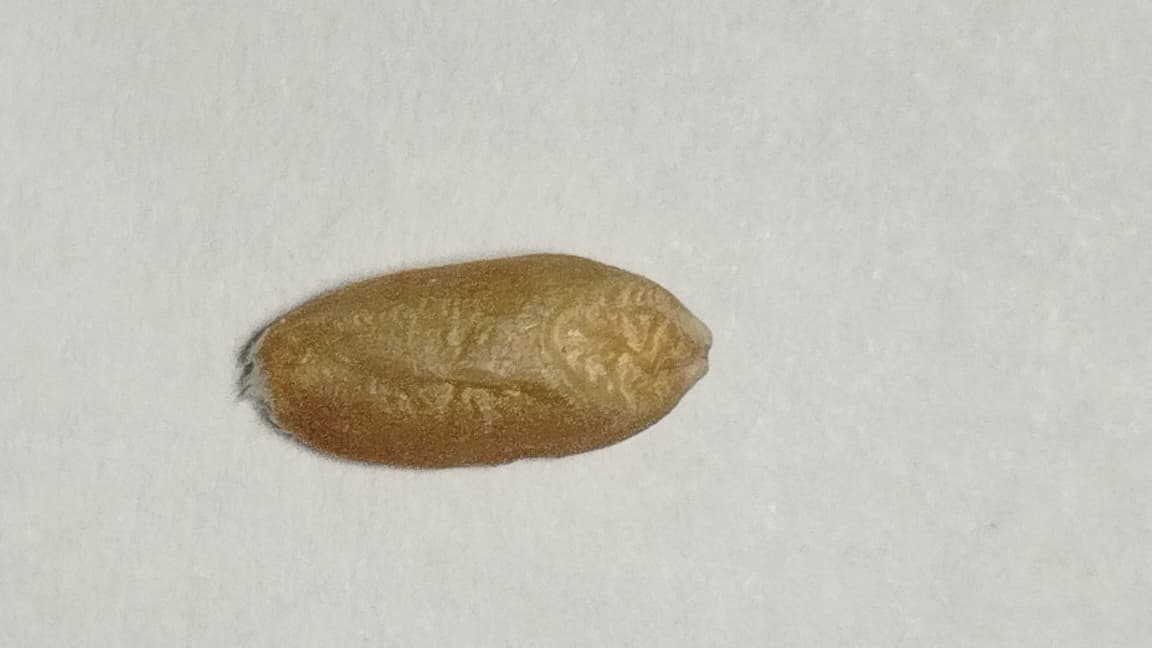healthy: (245, 253, 710, 467)
